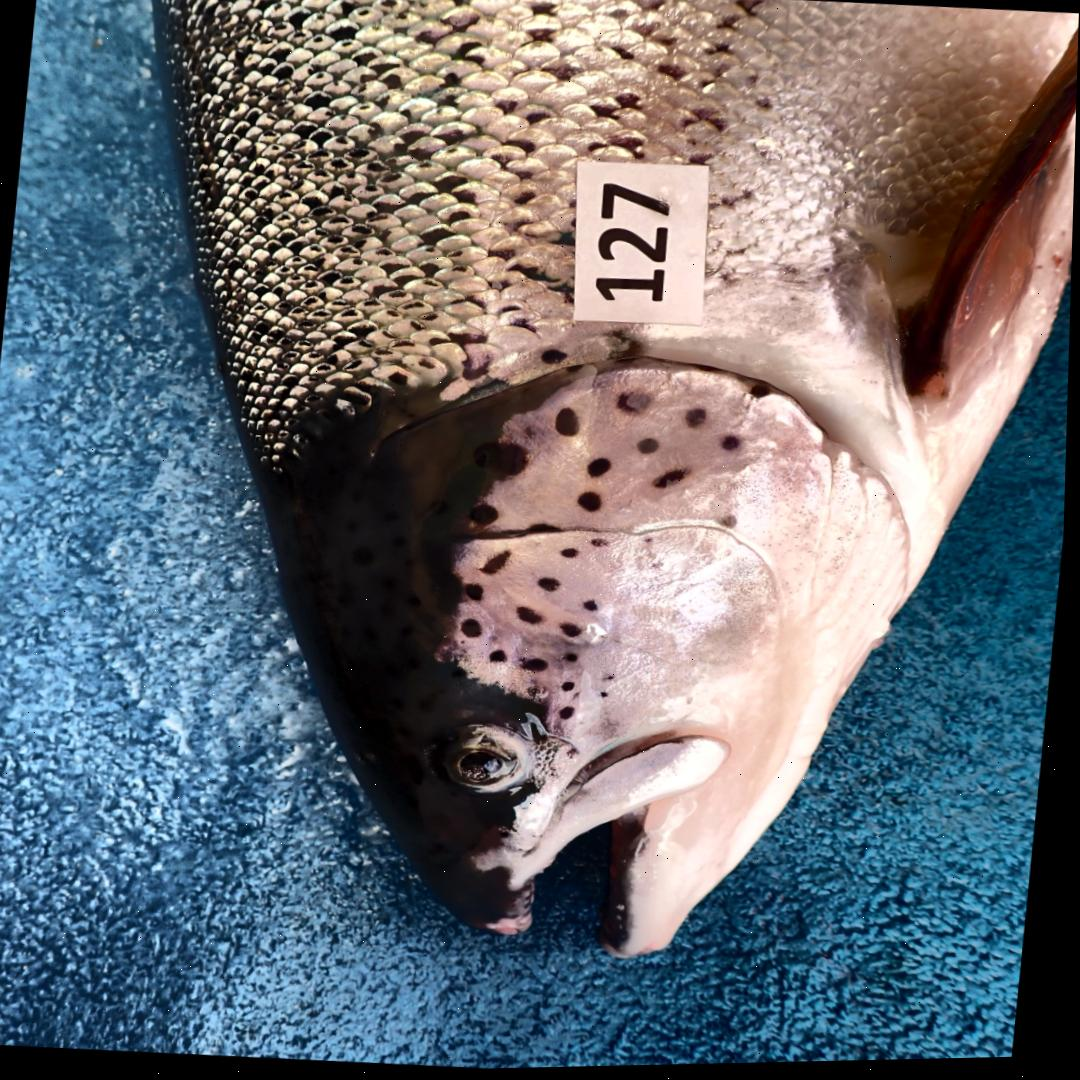spot: (475, 443, 531, 479), (557, 409, 584, 438), (621, 394, 653, 416), (485, 552, 513, 577), (657, 472, 691, 491), (472, 506, 502, 526), (579, 494, 606, 514), (591, 459, 615, 479), (519, 608, 545, 626), (687, 409, 708, 431), (465, 620, 486, 640), (526, 659, 553, 673), (532, 524, 565, 535), (722, 437, 744, 453), (721, 517, 742, 533), (754, 386, 775, 402), (468, 585, 486, 603), (640, 440, 661, 455), (542, 580, 563, 594), (565, 625, 585, 639), (492, 651, 512, 664), (562, 707, 578, 722), (530, 686, 547, 700), (565, 654, 583, 666), (593, 539, 611, 550), (524, 427, 539, 440), (563, 550, 581, 560), (587, 602, 602, 614), (565, 683, 580, 694), (652, 562, 665, 573), (599, 693, 614, 702), (576, 692, 588, 703), (607, 676, 619, 685), (490, 635, 502, 644), (646, 537, 655, 546), (461, 642, 469, 646)
